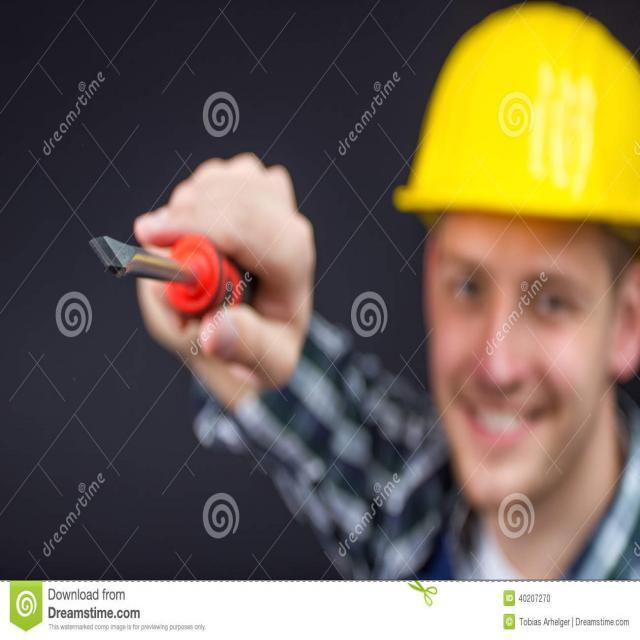screwdriver: (89, 211, 265, 325)
